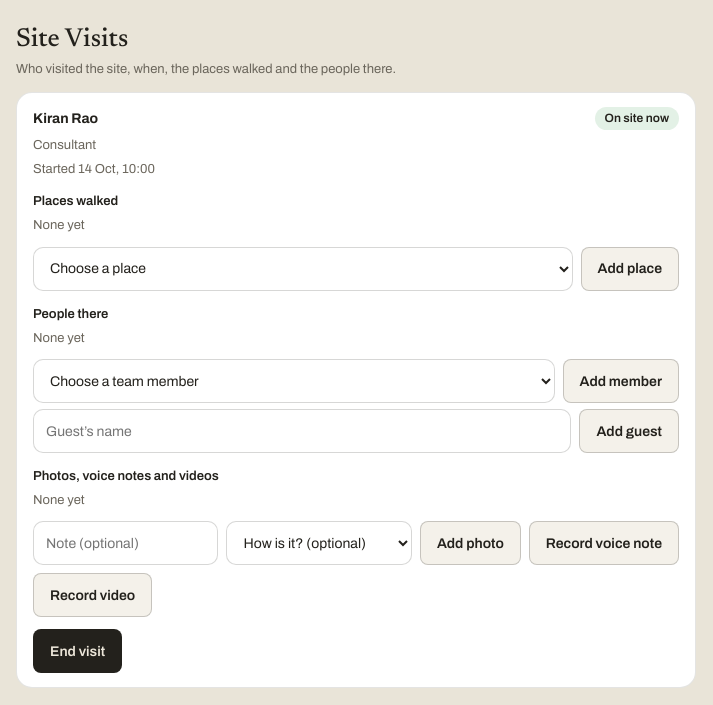
Test: Site Visits screen › never lets an older read overwrite a newer act or read (Codex 4275589722)
This screenshot has width=713, height=705.
Click the button "End visit" at (78, 651), box [33,629,122,673]
(page scrolled)
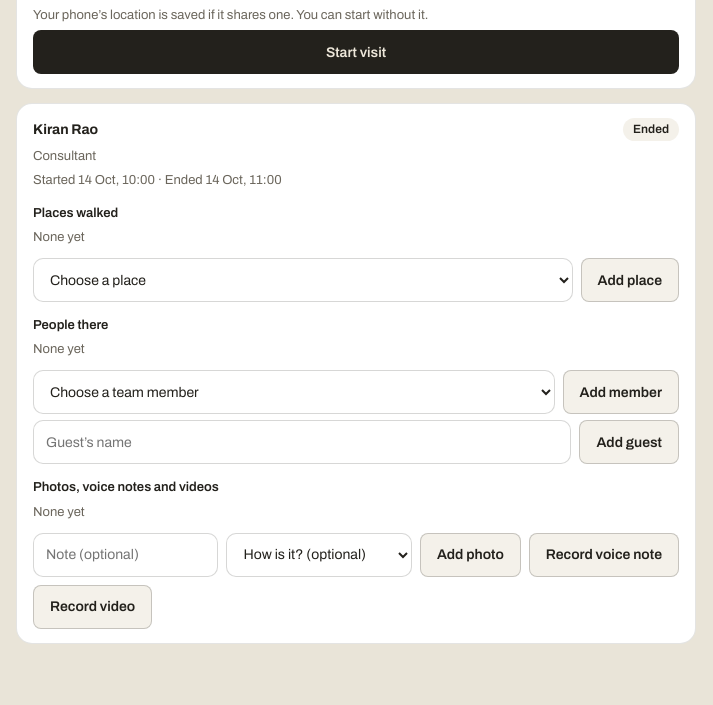
Check: the element with test id "sv-visit-v-1" shows "Ended", box [633,122,669,136]
Check: the button "End visit" is gone
